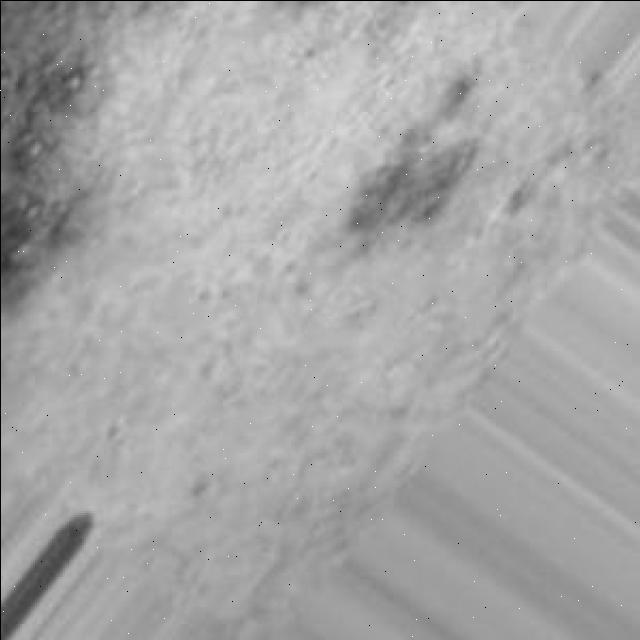Shingles: (338, 83, 484, 247), (0, 60, 100, 291)
